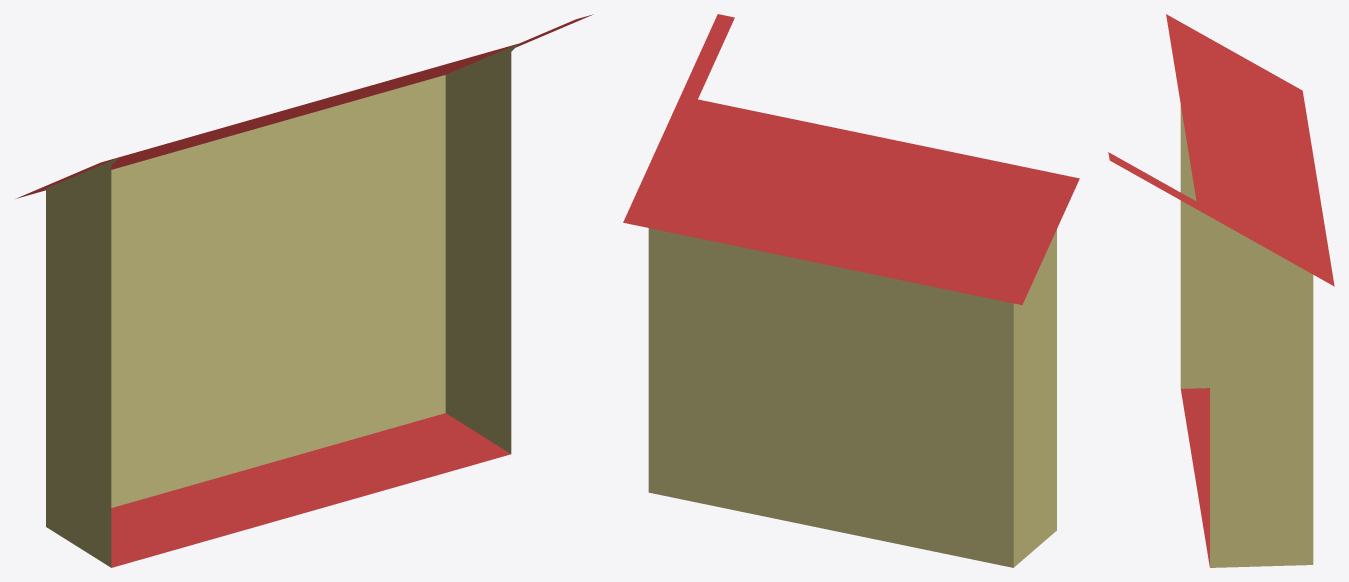
3 renders of one model, left to right at view 1: azimuth 30°, elevation 25°; view 2: azimuth 150°, elevation 25°; view 3: azimuth 270°, elevation 25°, orthographic. The views are drawn at different scales.
Size of the model in its own units: 11.92 by 5.63 by 11.5.
